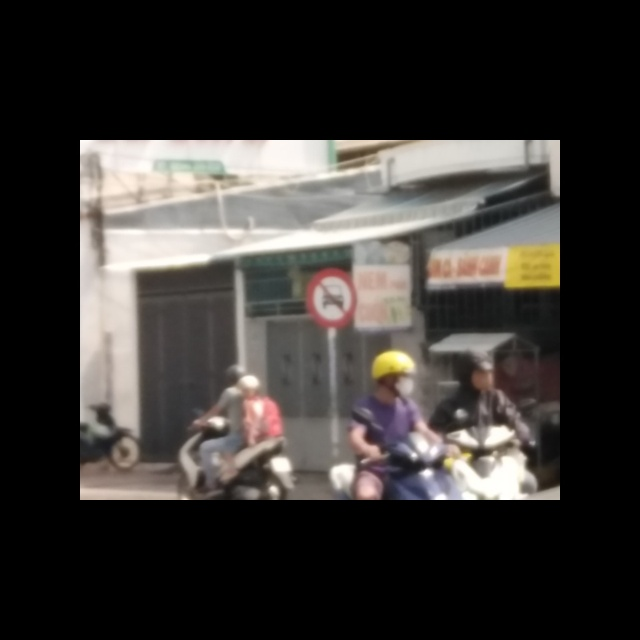Cấm xe ô tô: (305, 268, 360, 331)
